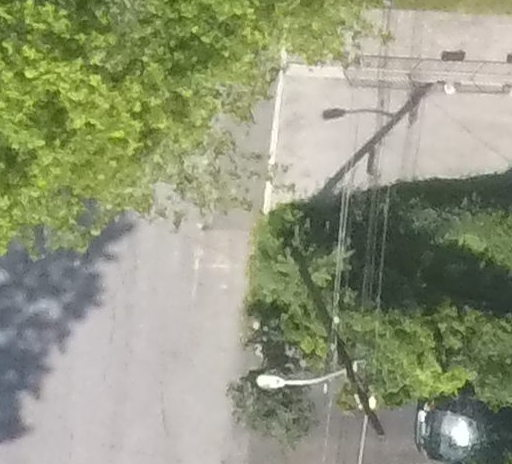driveway: (268, 72, 512, 214)
fence: (289, 57, 512, 91)
street: (1, 85, 272, 464)
